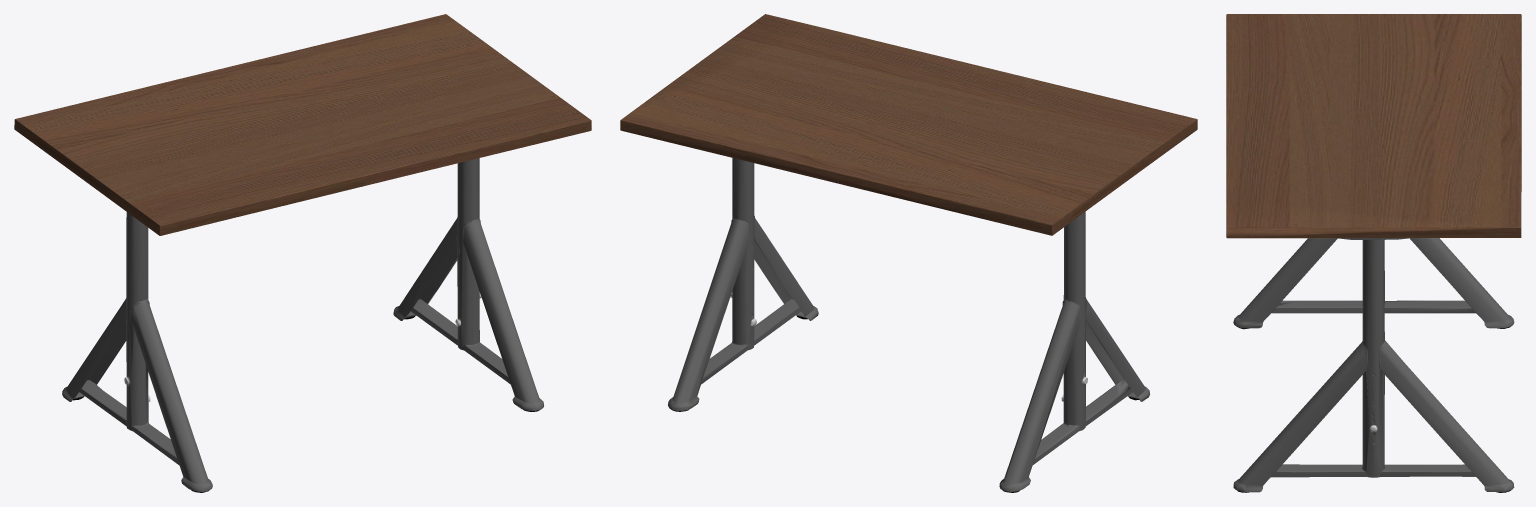
The picture shows the model from 3 angles, left to right: view 1: azimuth 30°, elevation 25°; view 2: azimuth 150°, elevation 25°; view 3: azimuth 270°, elevation 25°; orthographic projection.
Parts seen in each view (by area): view 1: ProcessedMeshNode; view 2: ProcessedMeshNode; view 3: ProcessedMeshNode.
Boxes of the visible parts, x1=… form: ProcessedMeshNode: x1=14, y1=14, x2=591, y2=492; ProcessedMeshNode: x1=620, y1=14, x2=1197, y2=492; ProcessedMeshNode: x1=1226, y1=14, x2=1521, y2=492.
Size of the model in its own units: 1.2 by 0.75 by 0.7005.
Materials: 2 (2 with a texture image).
